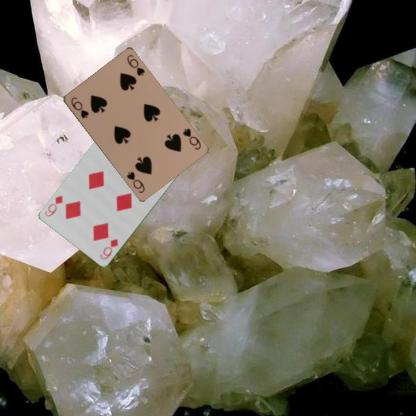6d: (97, 236, 119, 261)
6s: (68, 94, 90, 120), (180, 125, 202, 151)
